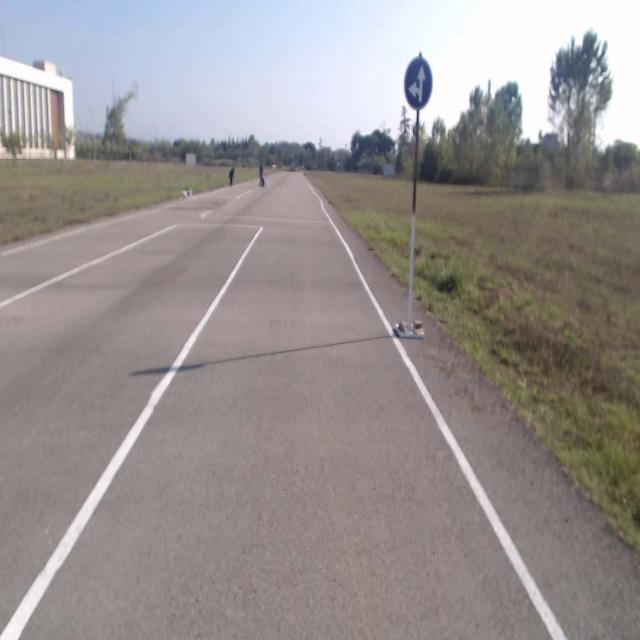ilerisol: (404, 58, 433, 108)
